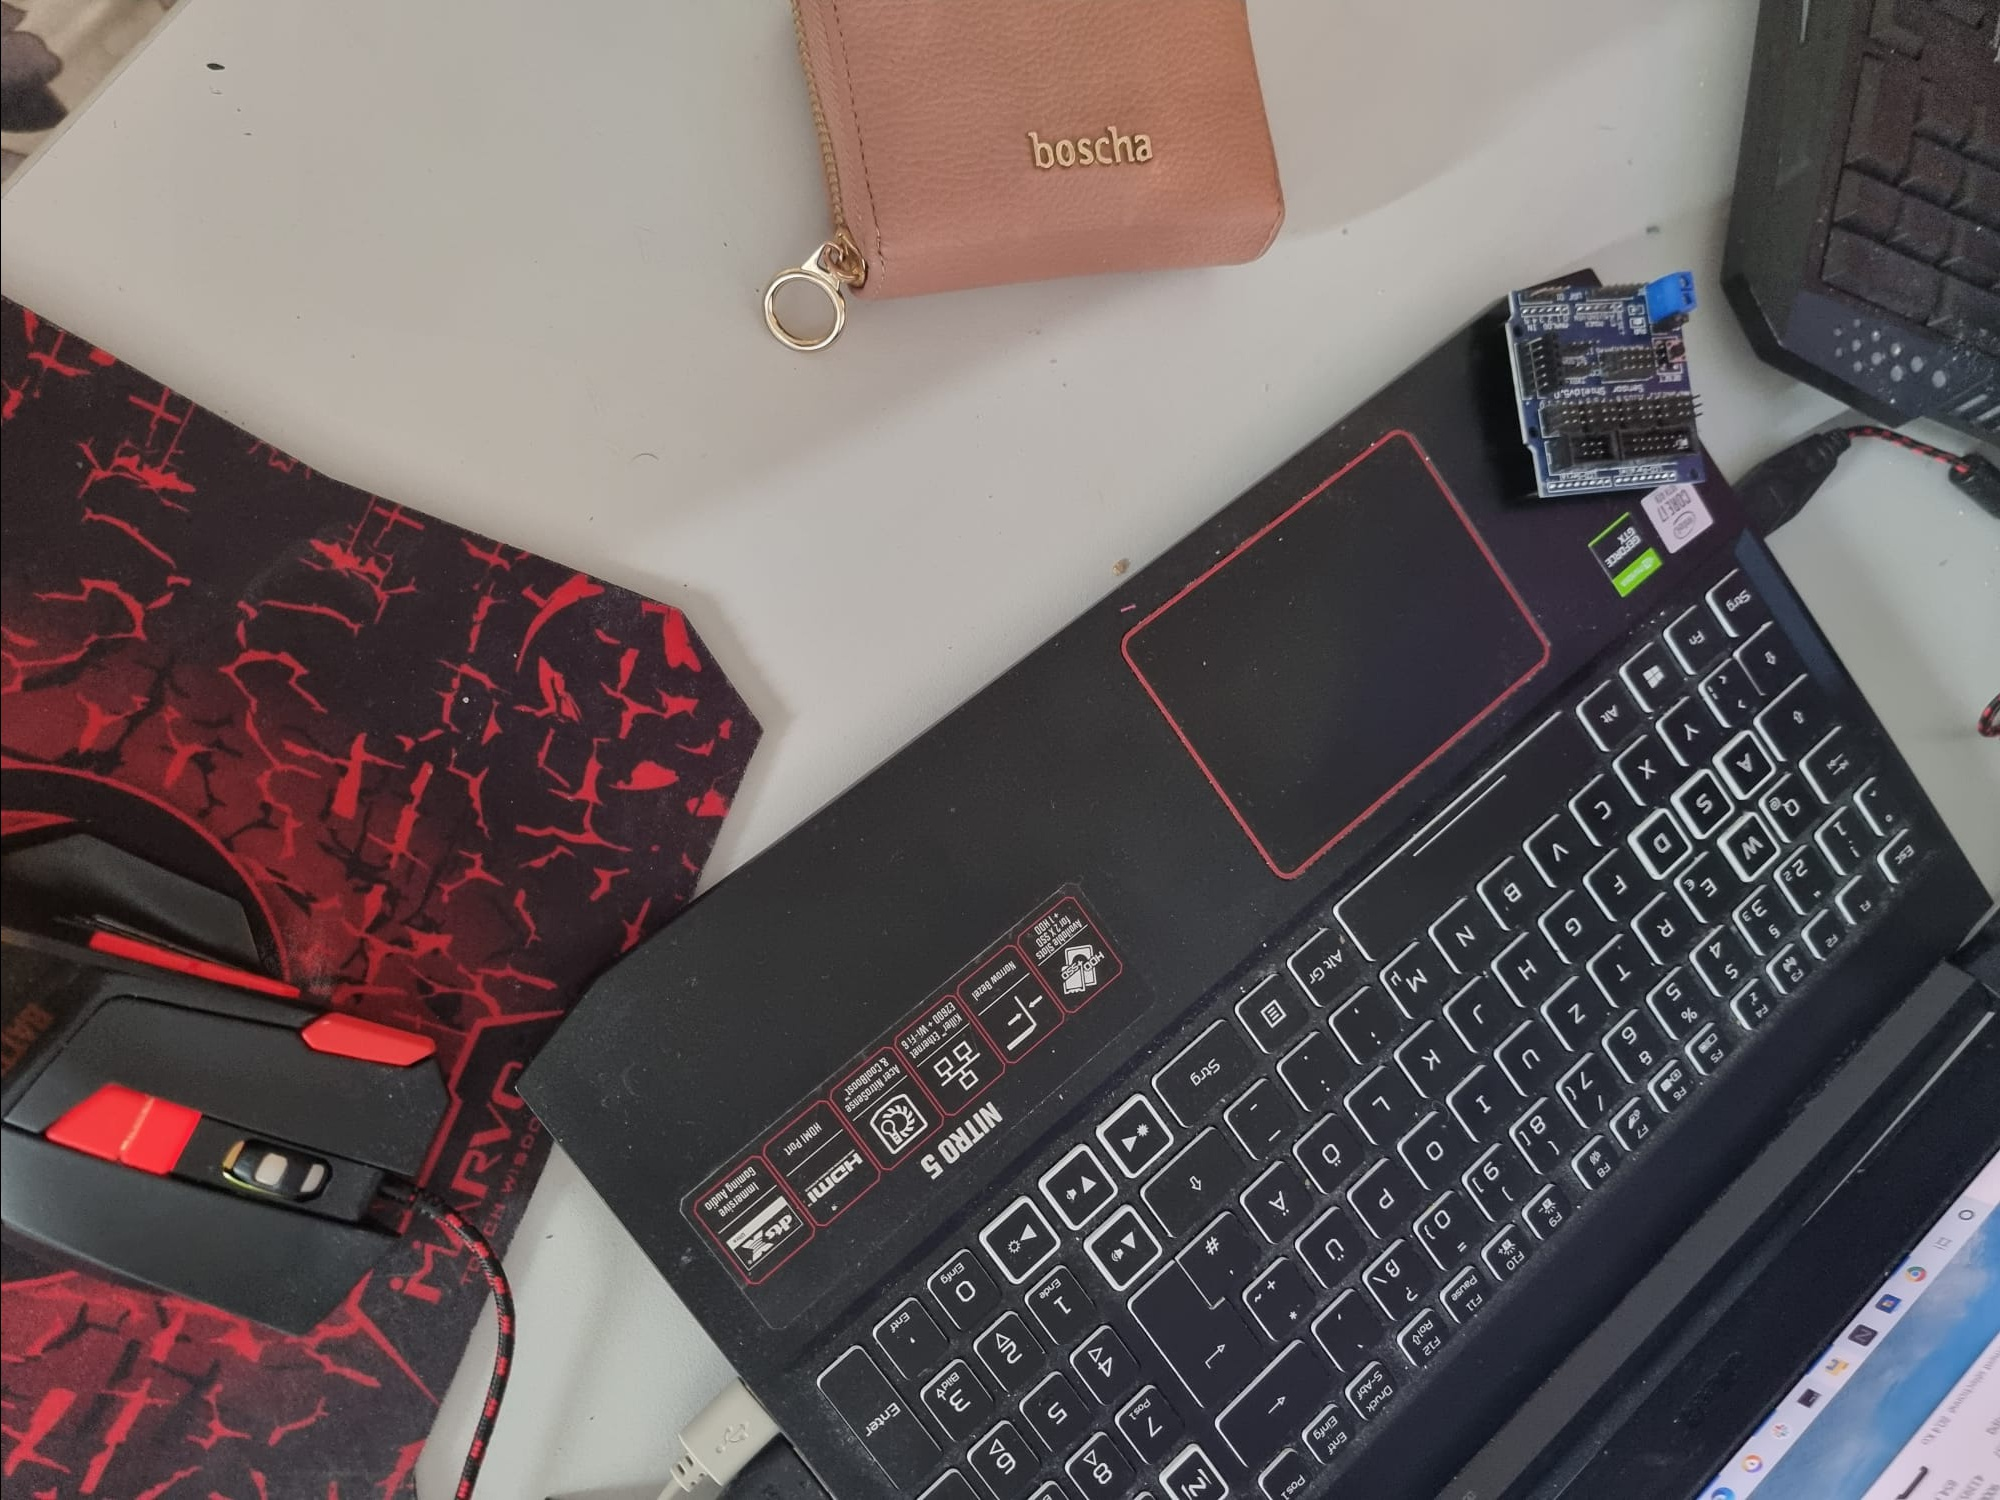5V EXPANSION: (1487, 266, 1706, 501)
